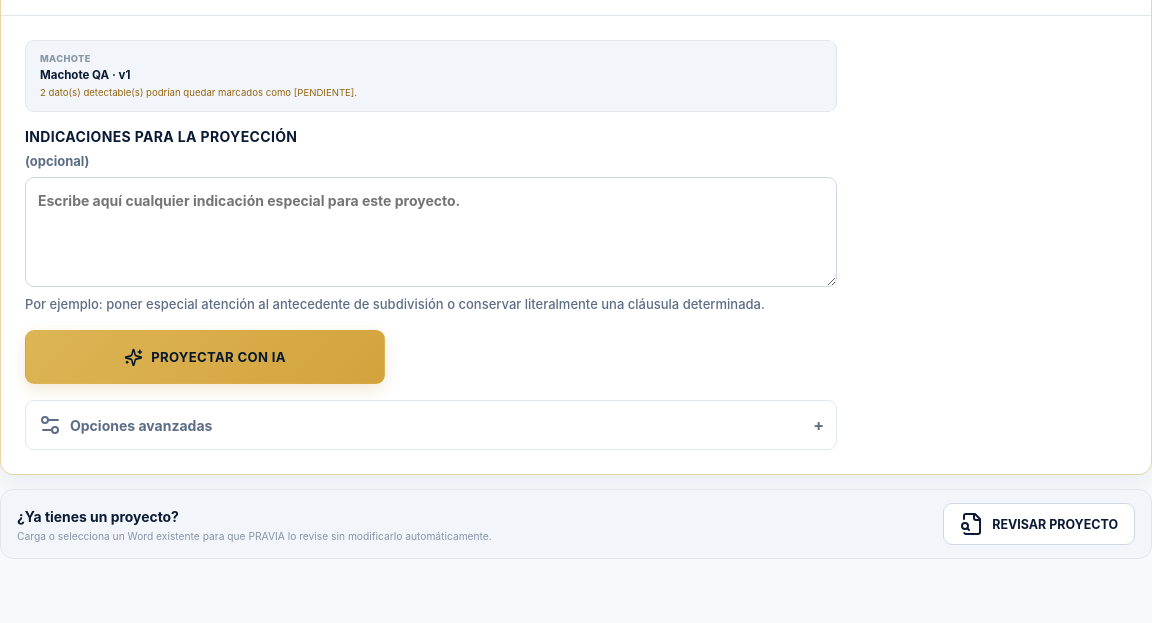
it: EXP-010 · Proyecto y revisión notarial › referencia de otro acto es explícita, exige origen y lo envía sin cambiar el acto real
Click the heading "Opciones avanzadas" at (125,425), box [38, 413, 212, 437]
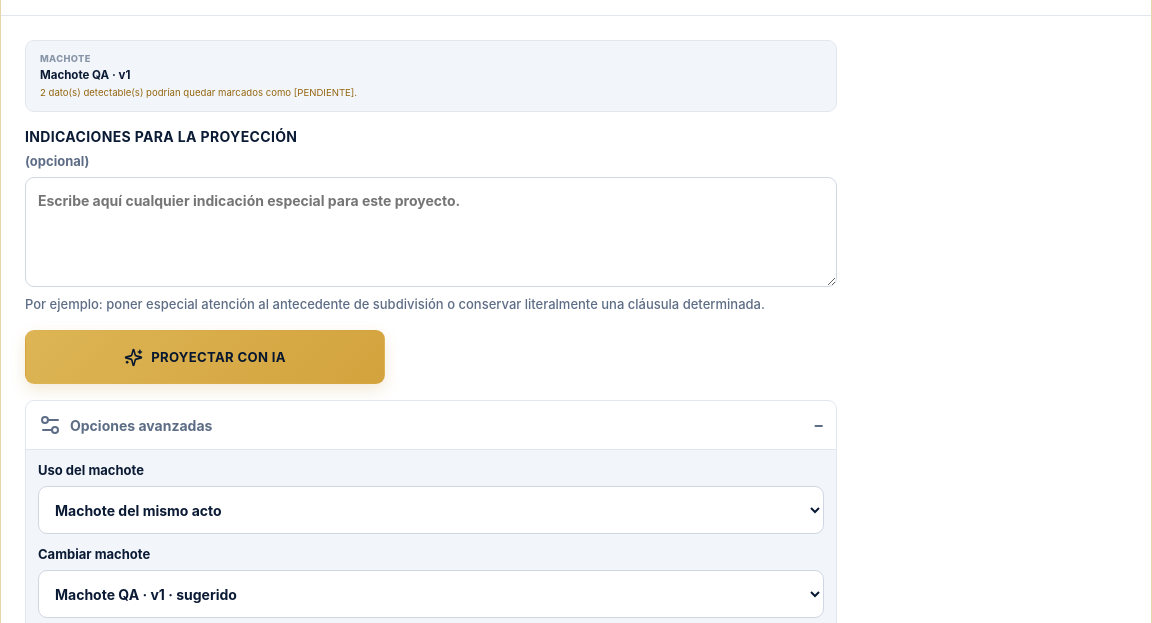
Select "Otro acto · sólo referencia de estilo" in the dropdown labelled "Uso del machote" at (431,510), box [38, 486, 824, 534]
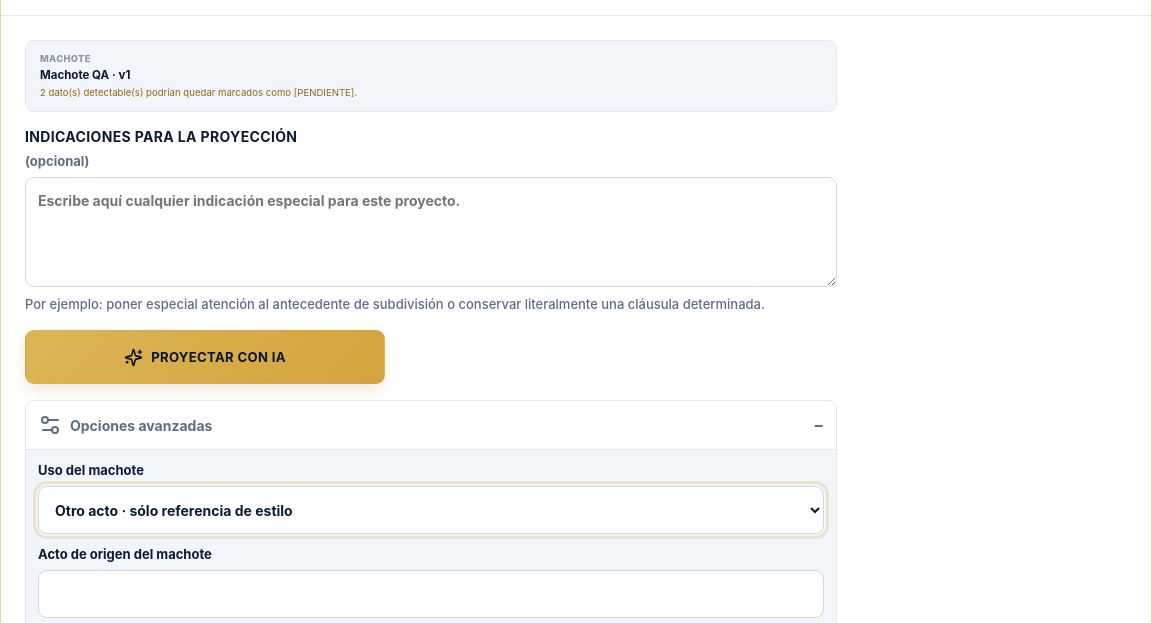
Click the button "PROYECTAR CON IA" at (205,357), box [25, 330, 385, 384]
(page scrolled)
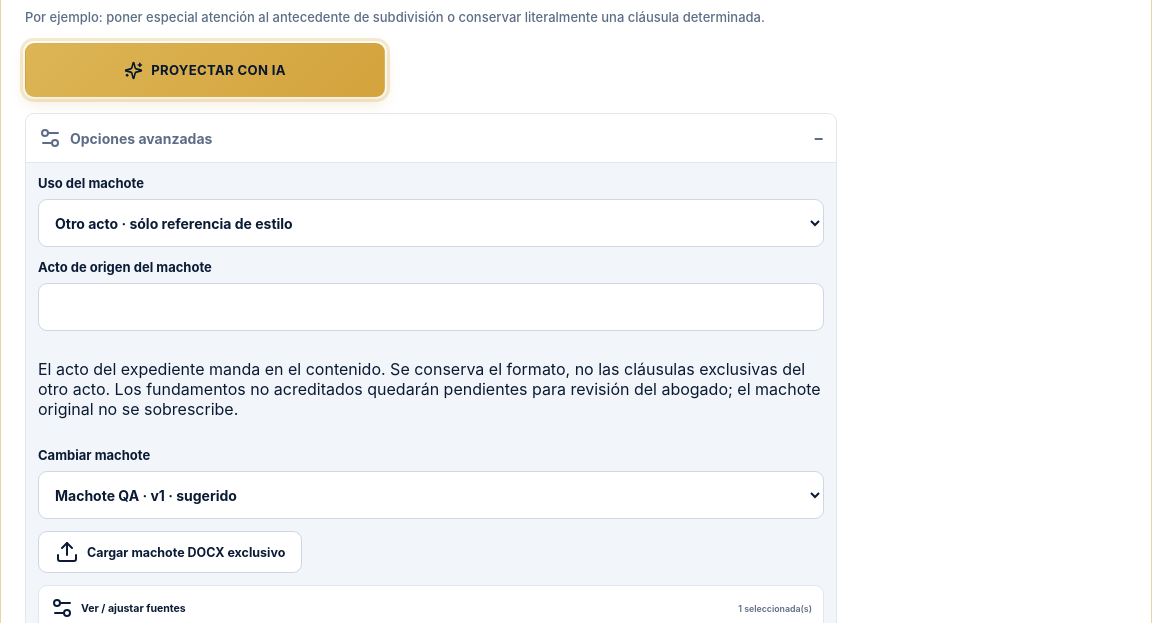
Type "Donación" into the field labelled "Acto de origen del machote" at (431,307), box [38, 283, 824, 331]
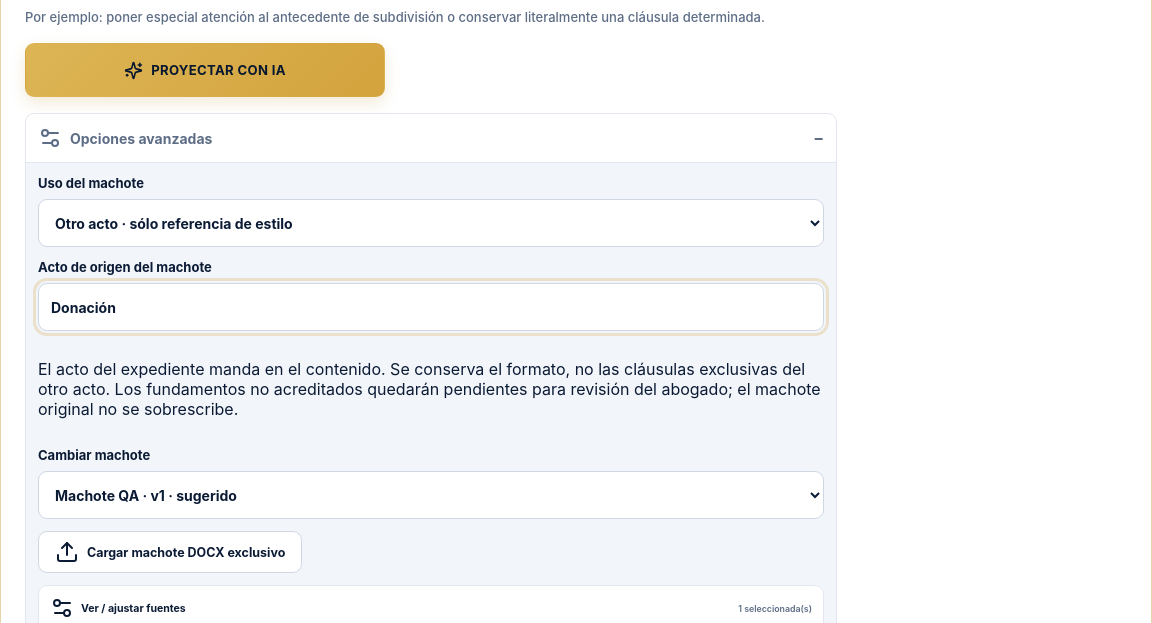
Click the button "PROYECTAR CON IA" at (205,70), box [25, 43, 385, 97]
(page scrolled)
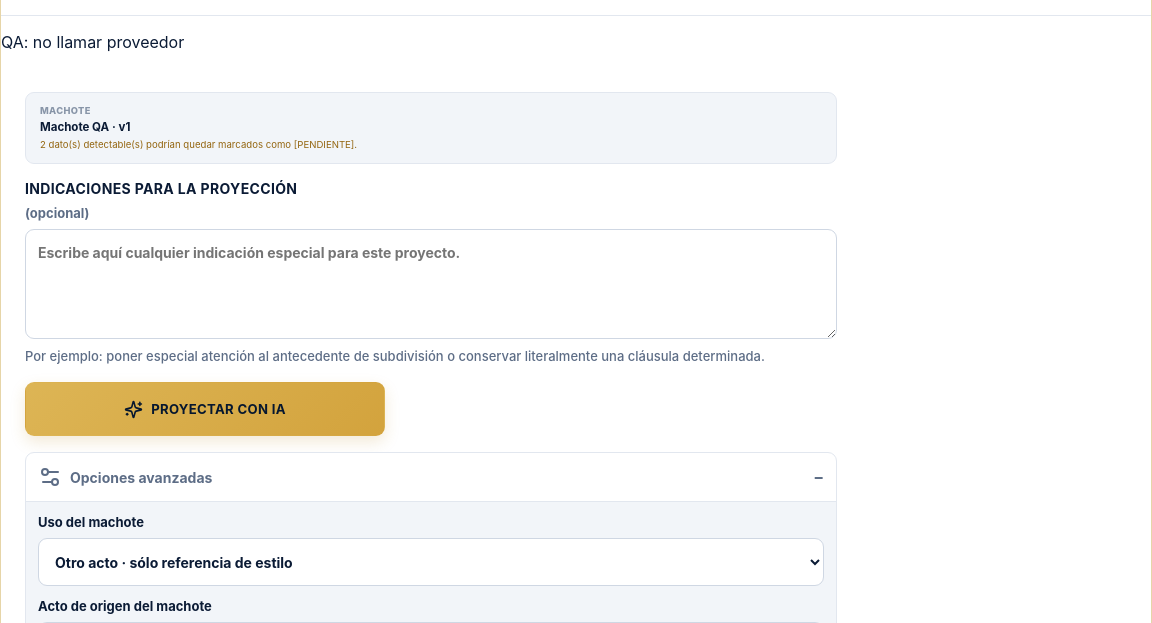
expect the message reads "QA: no llamar proveedor": met, box [1, 32, 184, 52]
